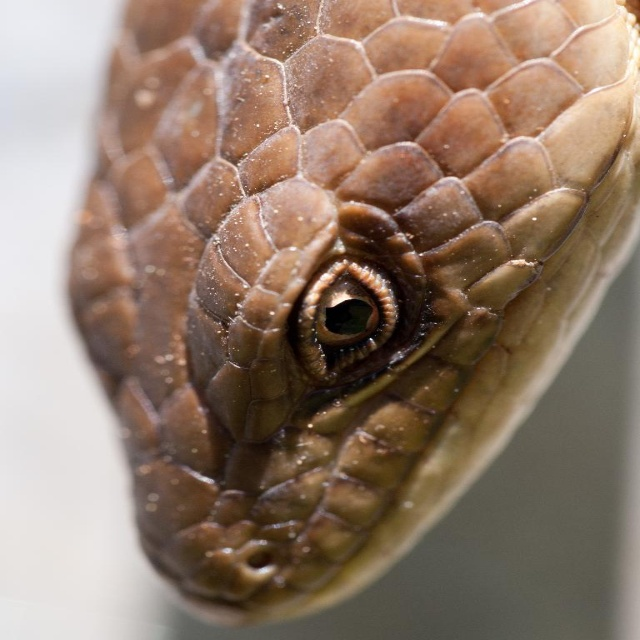Snake: (17, 0, 640, 619)
